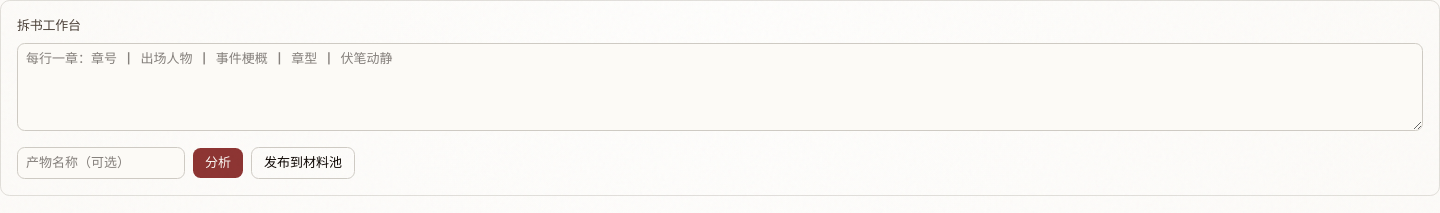
DeconstructPanel 交互（477 号） › 无可解析章节行时不发包并提示格式
Type "abc | 不是章号" into the text box with placeholder "每行一章：章号 | 出场人物 | 事件梗概 | 章型 | 伏笔动静" at (720, 87), box [17, 43, 1423, 131]
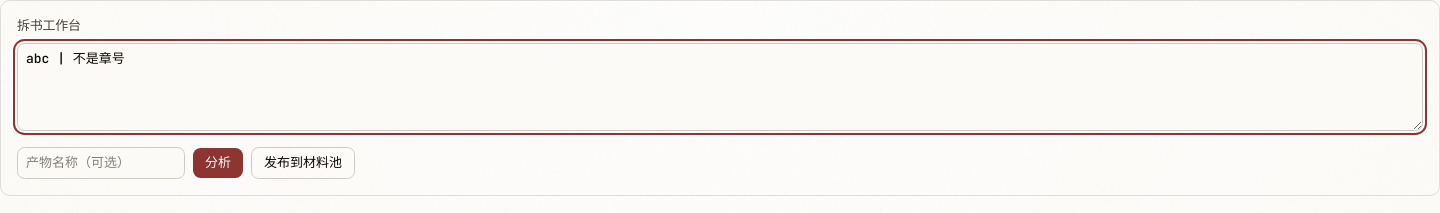
Click the button "分析" at (218, 163), box [193, 148, 243, 178]
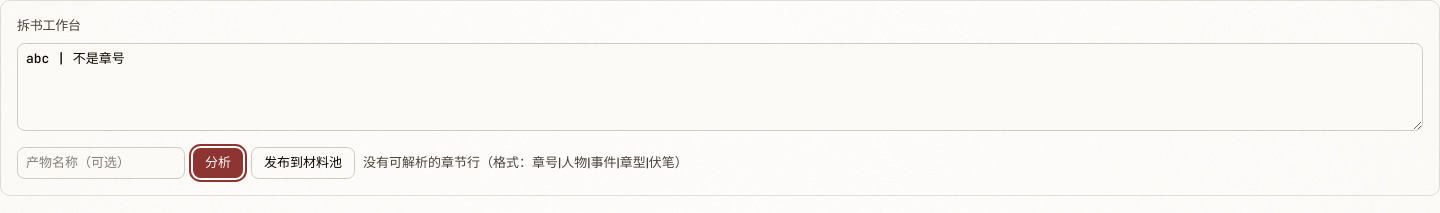
Now the text "没有可解析的章节行（格式：章号|人物|事件|章型|伏笔）" is shown, box [363, 154, 688, 172]
